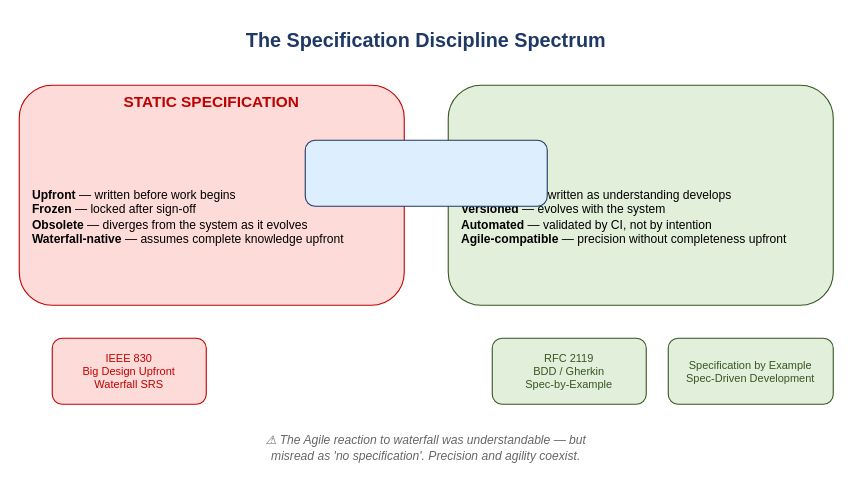
This 853x483 diagram has some shape labels left out. The shapes that lost their labels are listed below. From the top down, each one's box as (x1, y1, x2, y2) in pixels, then its label:
(304, 139, 547, 206): The misconception lives here — both sides require rigour
(447, 84, 833, 305): LIVING SPECIFICATION
